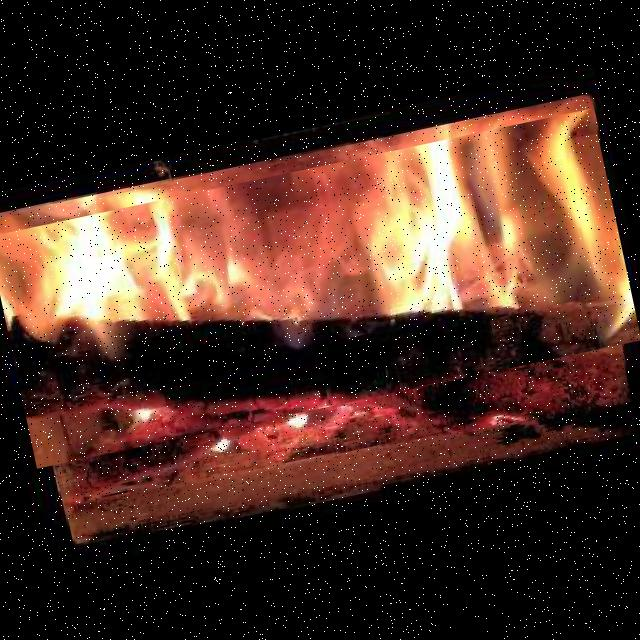fire: (0, 108, 640, 468)
